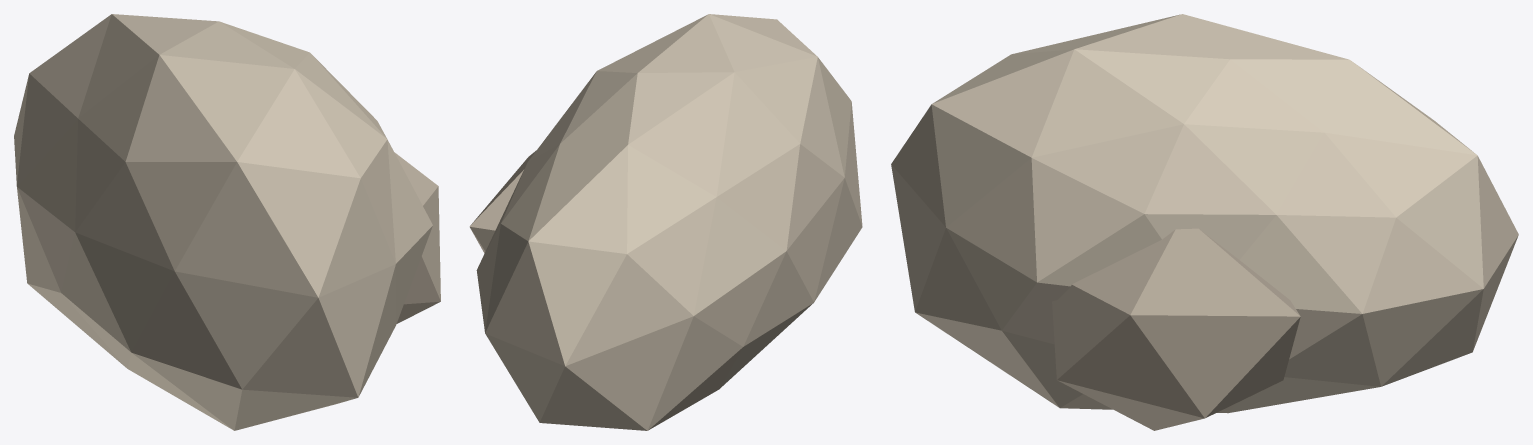
File: campo_rock_granite_8.glb
The picture shows the model from 3 angles, left to right: view 1: azimuth 30°, elevation 25°; view 2: azimuth 150°, elevation 25°; view 3: azimuth 270°, elevation 25°; orthographic projection. The views are drawn at different scales.
Visible parts, largest first — view 1: campo_rock_granite_8.glb; view 2: campo_rock_granite_8.glb; view 3: campo_rock_granite_8.glb.
Boxes of the visible parts, left/top/right/bottom form: campo_rock_granite_8.glb: left=14, top=14, right=440, bottom=430; campo_rock_granite_8.glb: left=469, top=14, right=862, bottom=430; campo_rock_granite_8.glb: left=891, top=14, right=1518, bottom=430.
Size of the model in its own units: 1.48 by 1.53 by 2.45.
